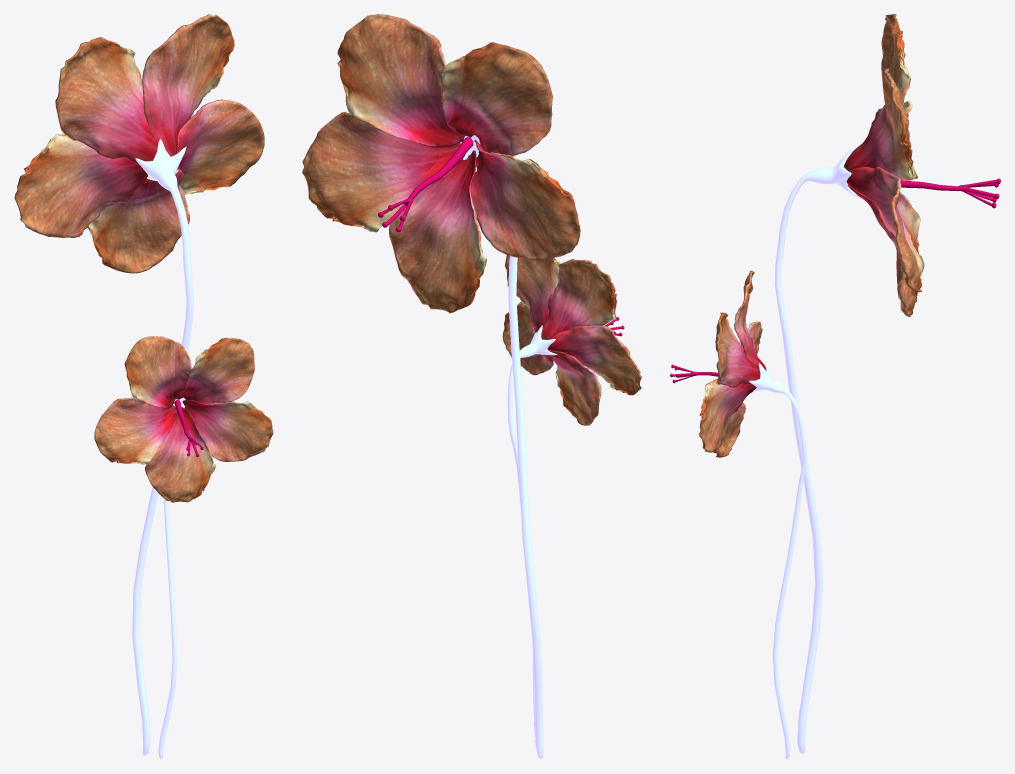
File: Flower2.fbx
3 renders of one model, left to right at view 1: azimuth 30°, elevation 25°; view 2: azimuth 150°, elevation 25°; view 3: azimuth 270°, elevation 25°, orthographic. The views are drawn at different scales.
Visible parts, largest first — view 1: Circle, Circle.001, Cylinder.002, Cylinder.004; view 2: Circle, Circle.001, Cylinder.002, Cylinder.004, Cylinder; view 3: Circle, Circle.001, Cylinder.002, Cylinder.004, Cylinder.
Boxes of the visible parts, x1,y1,x2,y2 form: Circle: (14,14,264,273); Circle.001: (94,336,273,502); Cylinder.002: (132,139,193,756); Cylinder.004: (158,397,185,759); Circle: (302,14,580,313); Circle.001: (502,255,641,425); Cylinder.002: (460,135,543,759); Cylinder.004: (507,325,557,748); Cylinder: (378,137,473,232); Circle: (844,14,924,316); Circle.001: (699,270,766,457); Cylinder.002: (774,146,858,754); Cylinder.004: (749,361,806,759); Cylinder: (900,178,1000,208).
Size of the model in its own units: 95.99 by 252 by 103.
